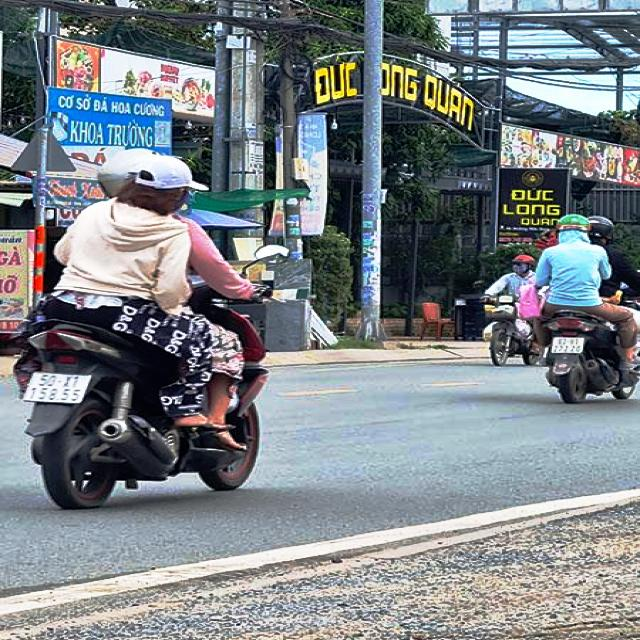license_plate: (21, 373, 95, 404), (547, 337, 587, 357)
